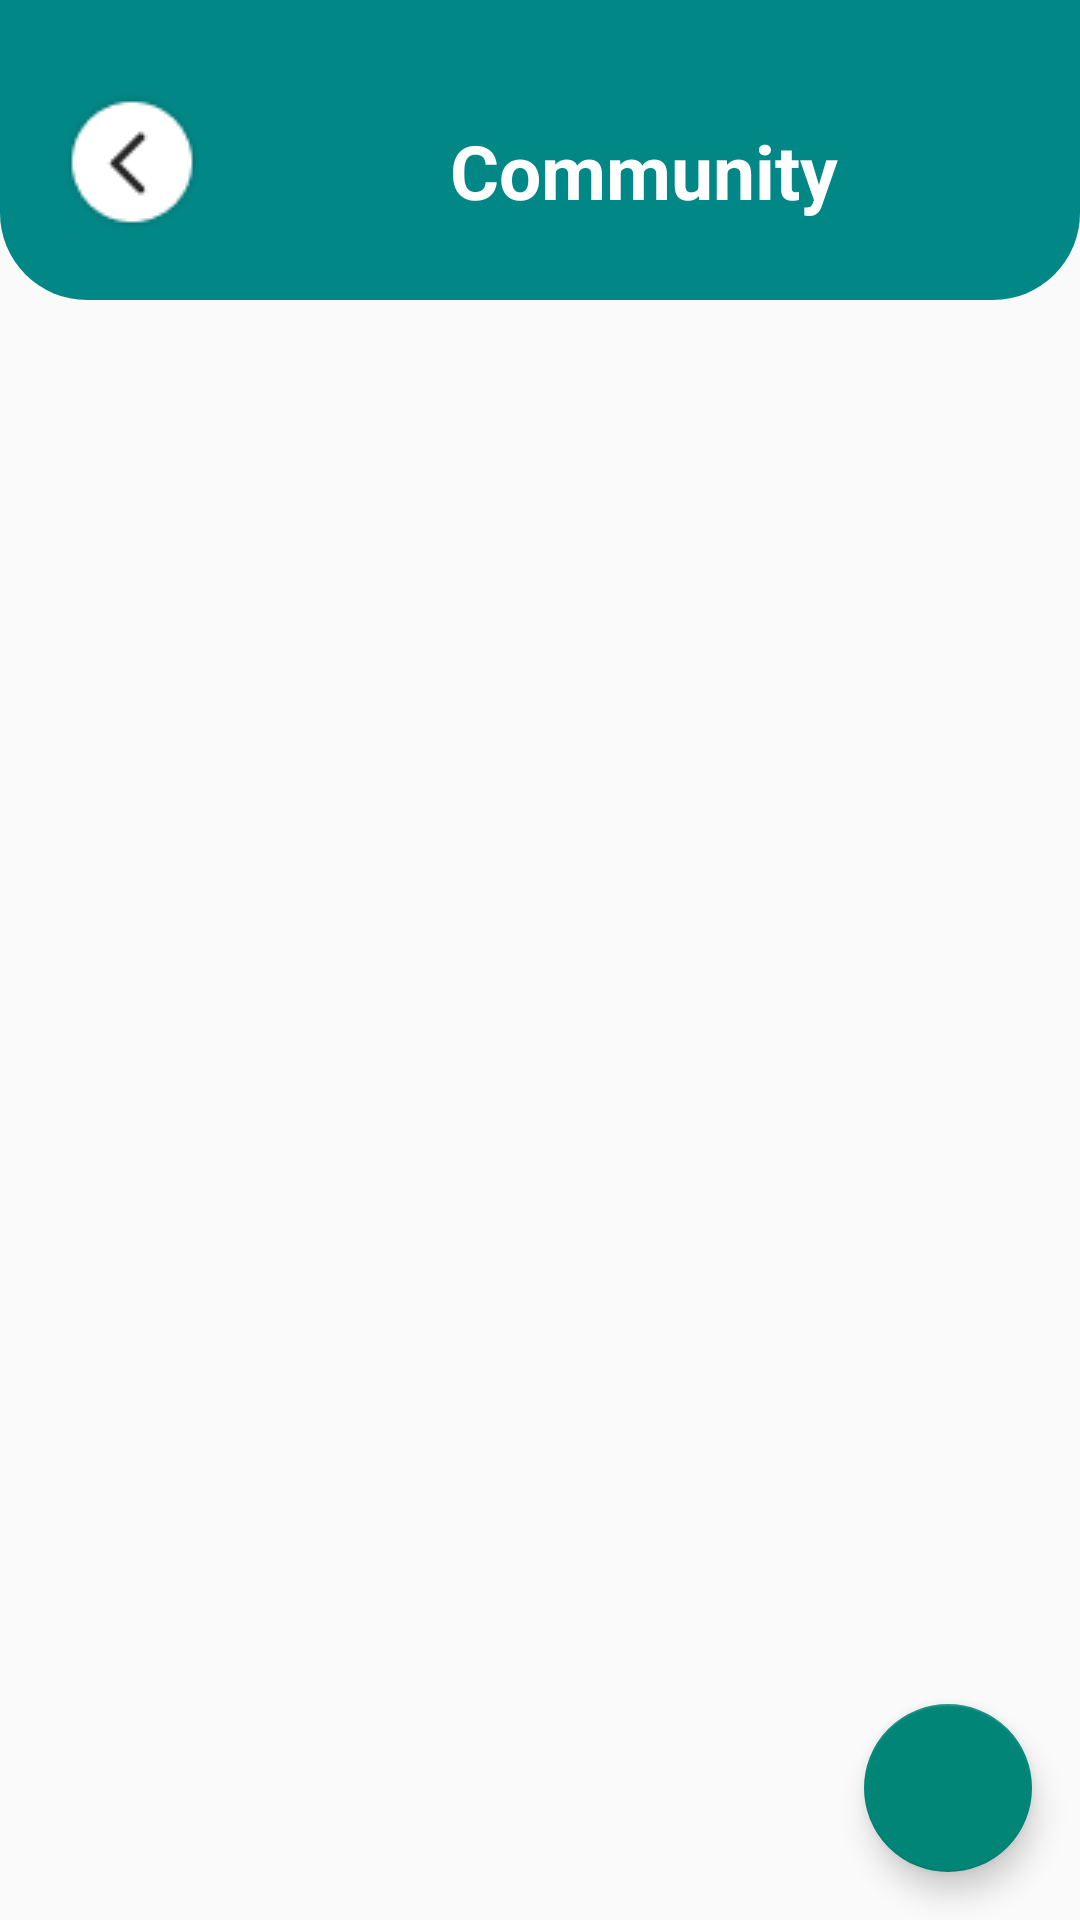

Icon bounding boxes for this 1080 x 1920 phone screenshot, format (x1, y1, x2, y2):
circle back: (71, 101, 193, 223)
